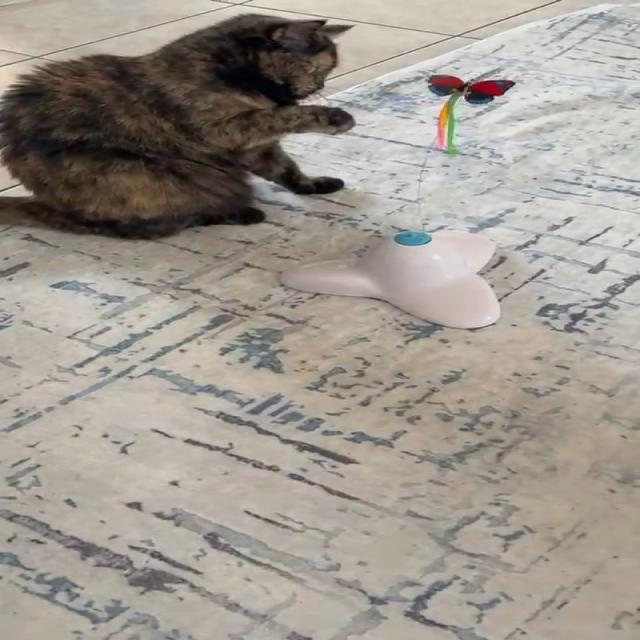authorized: (0, 12, 357, 240)
